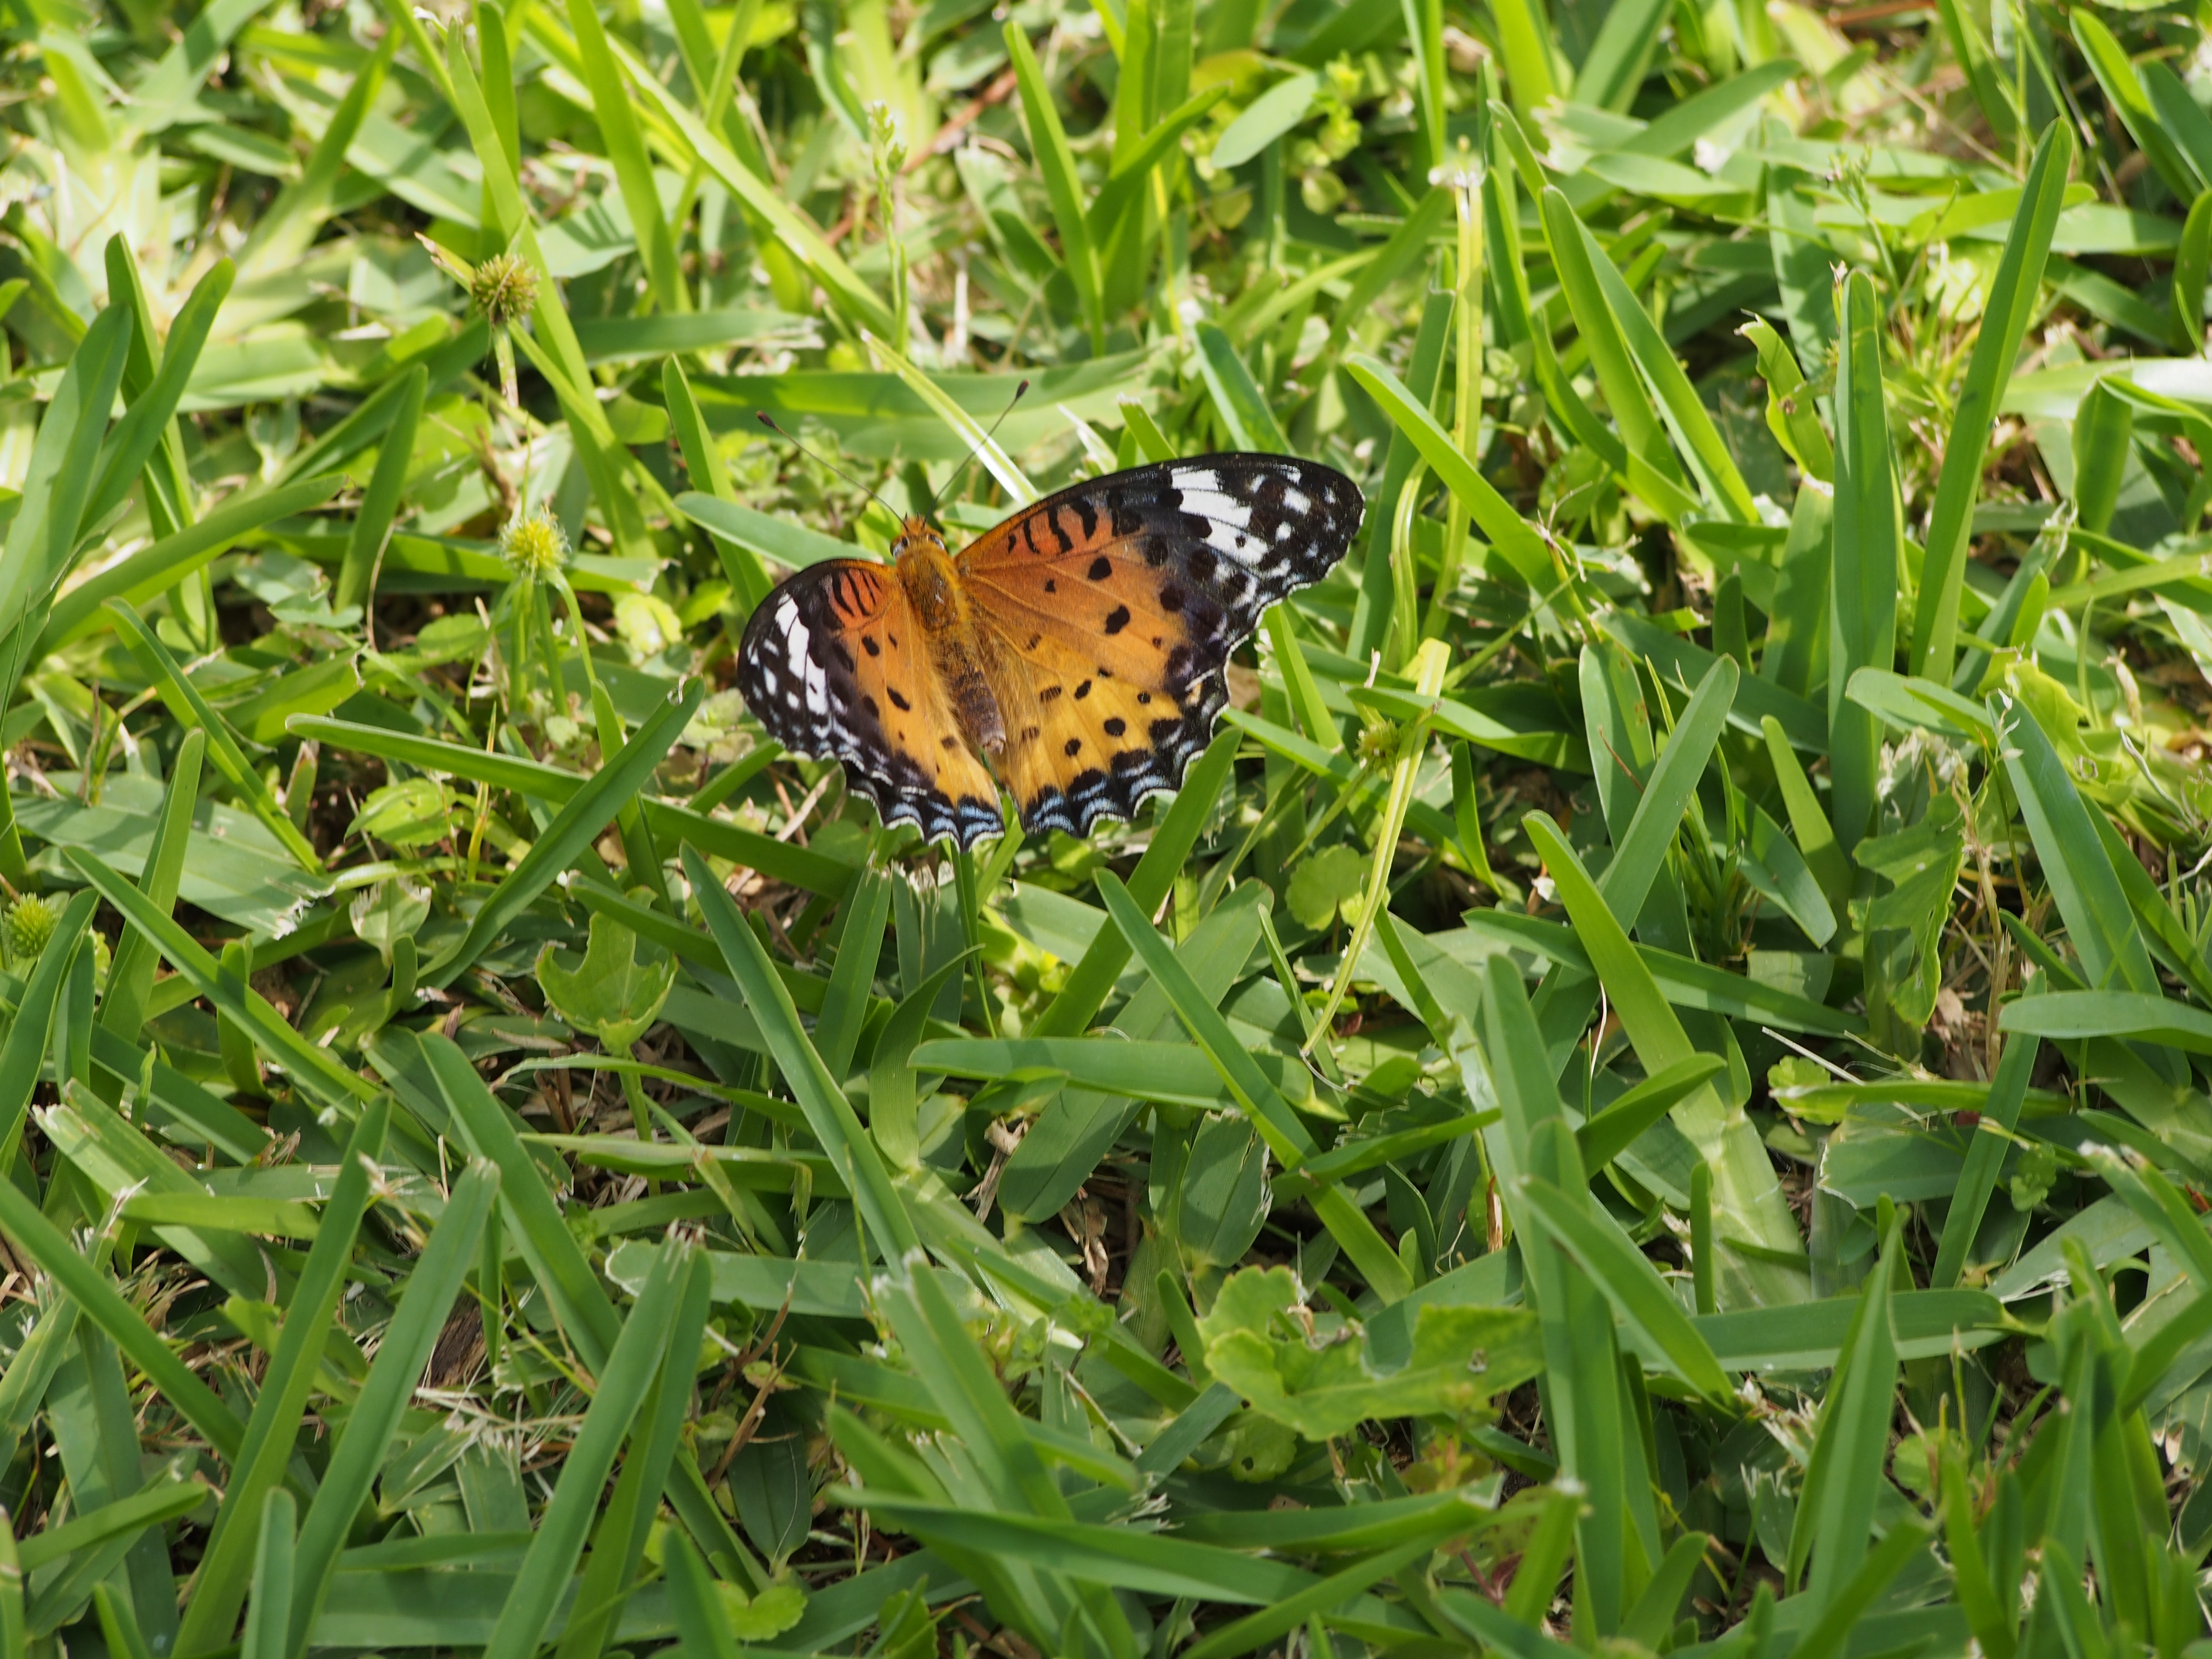Argyreus hyperbius: (716, 397, 1388, 843)
butterfly: (716, 399, 1388, 845)
